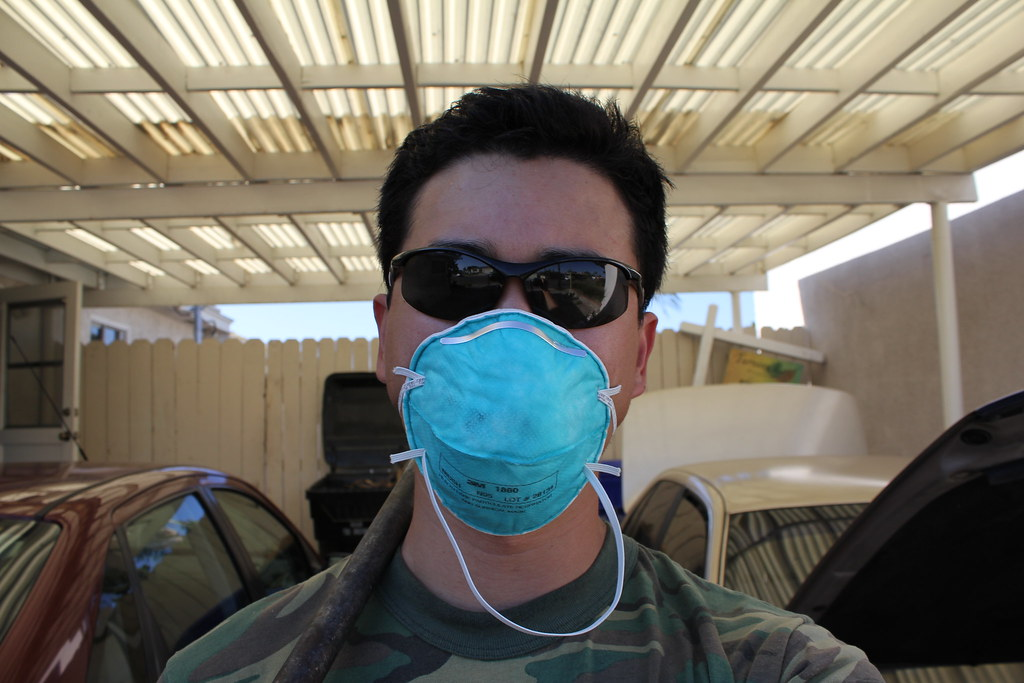mask: (402, 329, 625, 529)
